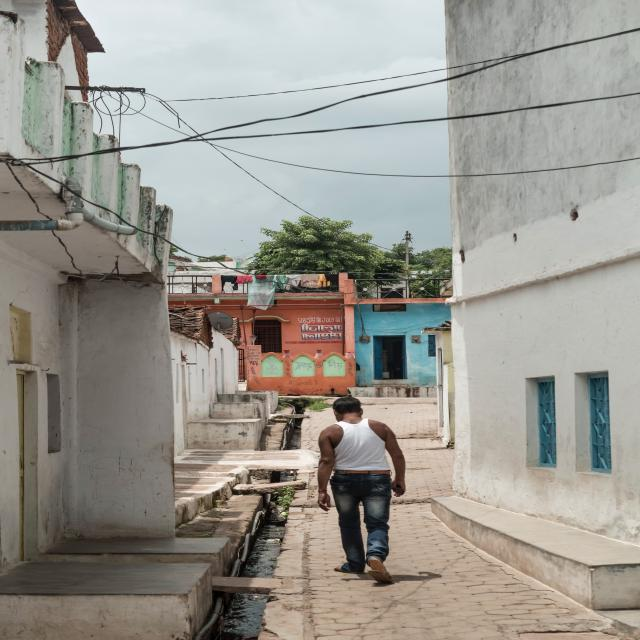adult: (310, 395, 410, 586)
